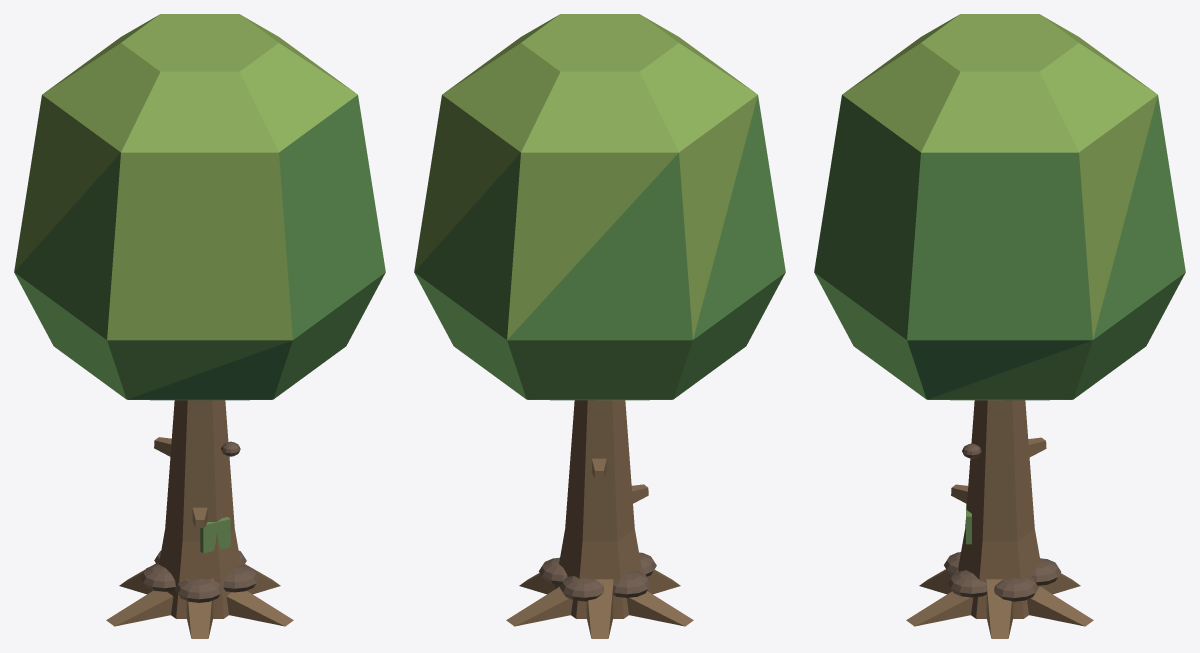
Rendered from tree_oak.glb.
The picture shows the model from 3 angles, left to right: view 1: azimuth 30°, elevation 25°; view 2: azimuth 150°, elevation 25°; view 3: azimuth 270°, elevation 25°; orthographic projection.
Parts seen in each view (by area): view 1: tree_oak; view 2: tree_oak; view 3: tree_oak.
Boxes of the visible parts, box(x1,y1,x2,y2) form: tree_oak: box(14, 14, 385, 638); tree_oak: box(414, 14, 785, 638); tree_oak: box(814, 14, 1185, 638).
Size of the model in its own units: 0.6406 by 1.23 by 0.7396.
